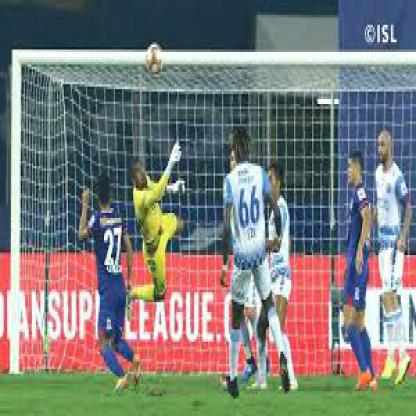goal: (112, 28, 203, 288)
